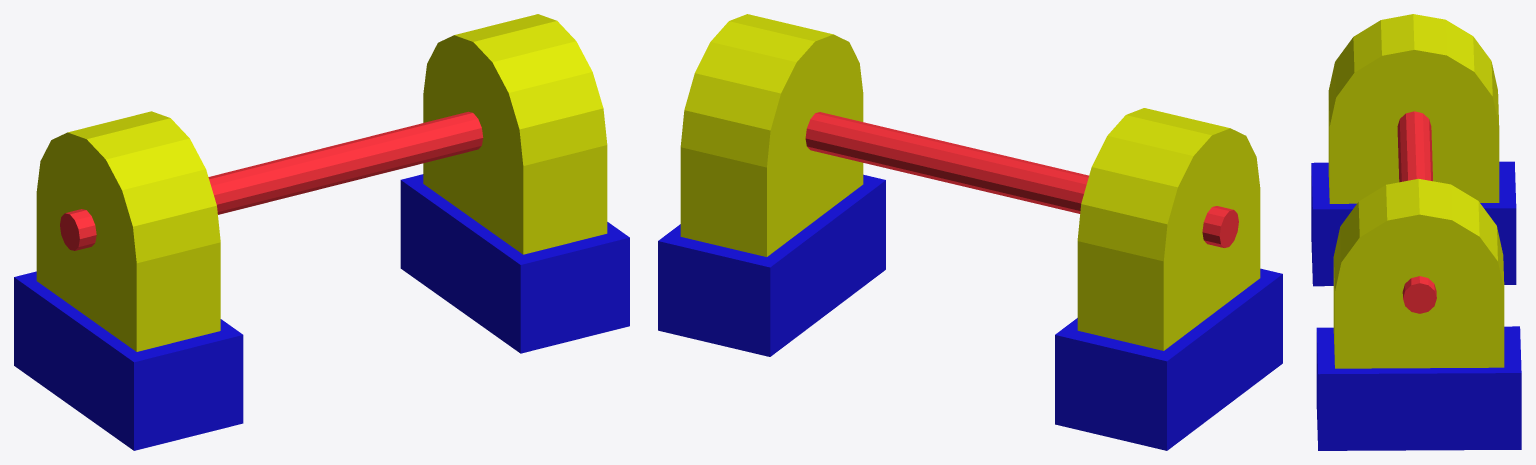
Rendered from sube_baja_a.fbx.
The picture shows the model from 3 angles, left to right: view 1: azimuth 30°, elevation 25°; view 2: azimuth 150°, elevation 25°; view 3: azimuth 270°, elevation 25°; orthographic projection. The views are drawn at different scales.
Visible parts, largest first — view 1: sube_y_baja; view 2: sube_y_baja; view 3: sube_y_baja.
Boxes of the visible parts, x1,y1,x2,y2 form: sube_y_baja: (14,14,629,450); sube_y_baja: (658,14,1282,450); sube_y_baja: (1311,14,1521,450).
Bounding box in the file's own units: 250 × 125 × 103.
